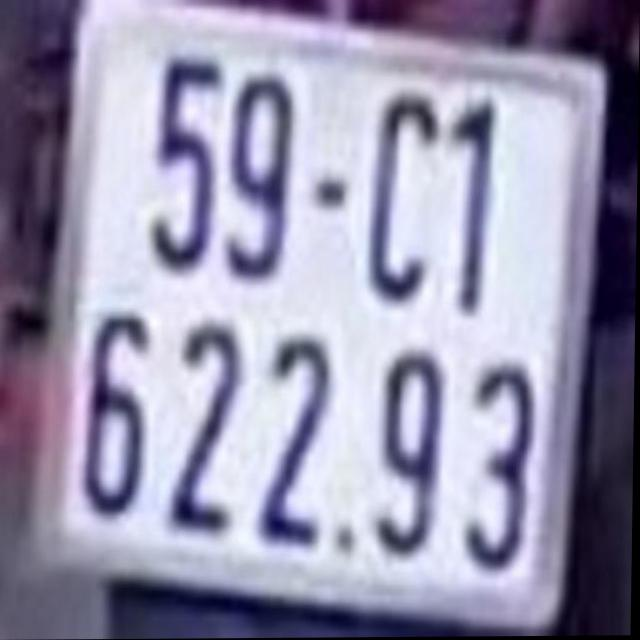1: (446, 90, 499, 321)
2: (164, 316, 244, 533), (260, 327, 331, 552)
3: (470, 360, 539, 573)
5: (148, 50, 219, 278)
6: (91, 309, 151, 524)
9: (221, 56, 292, 296), (378, 341, 445, 558)
C: (359, 84, 439, 314)
